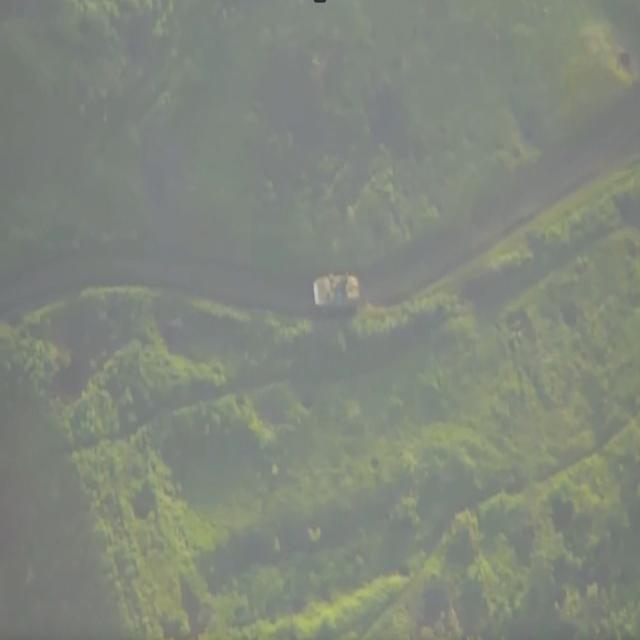AIFV: (312, 270, 362, 316)
